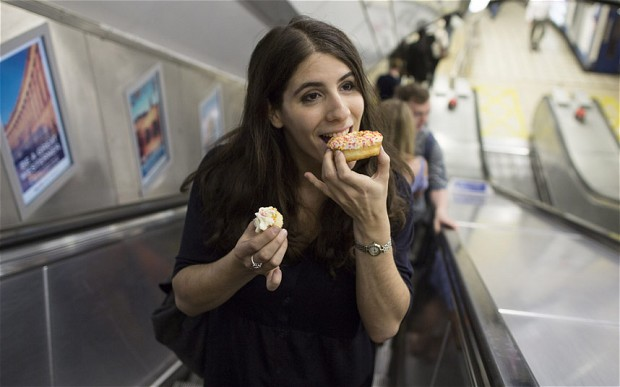eating: (190, 14, 496, 238)
